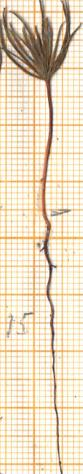flower: (0, 0, 82, 82)
root: (40, 214, 66, 474)
stem: (36, 85, 59, 213)
